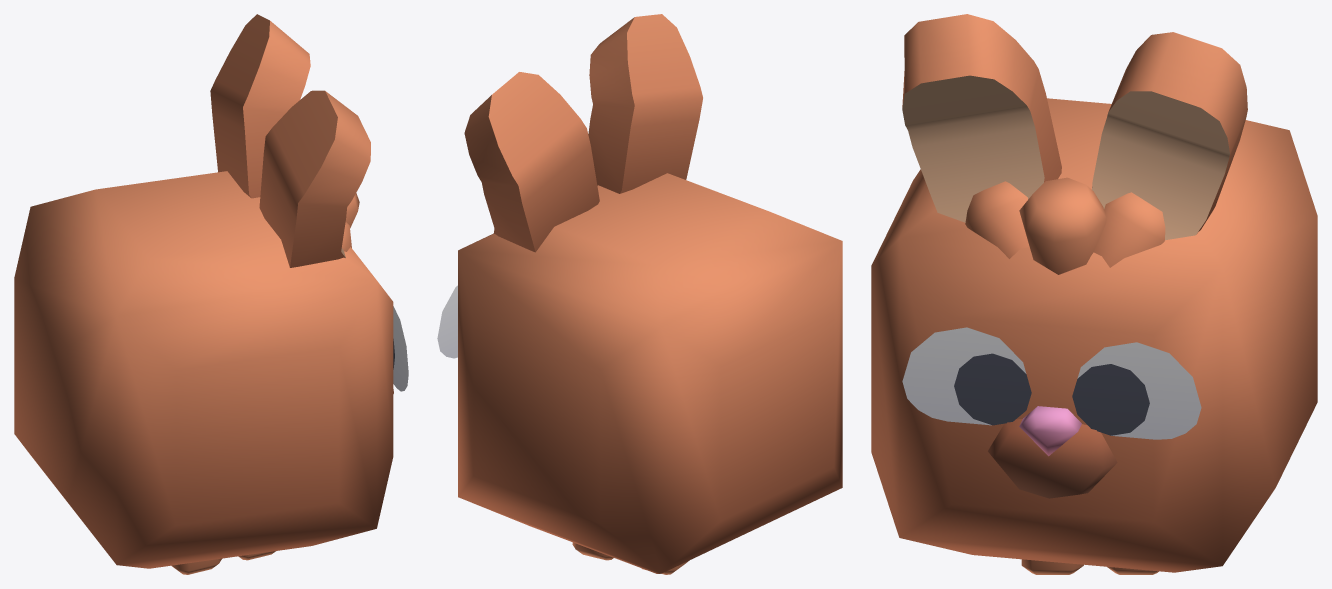
Rendered from animal-bunny.glb.
The picture shows the model from 3 angles, left to right: view 1: azimuth 30°, elevation 25°; view 2: azimuth 150°, elevation 25°; view 3: azimuth 270°, elevation 25°; orthographic projection. The views are drawn at different scales.
Visible parts, largest first — view 1: body.001; view 2: body.001; view 3: body.001, leg-front-left.001.
Boxes of the visible parts, x1,y1,x2,y2 form: body.001: [14, 14, 408, 568]; body.001: [437, 14, 842, 573]; body.001: [871, 14, 1317, 572]; leg-front-left.001: [1021, 559, 1083, 574].
Size of the model in its own units: 2.75 by 3.8 by 2.67.
Materials: 1 (1 with a texture image).
